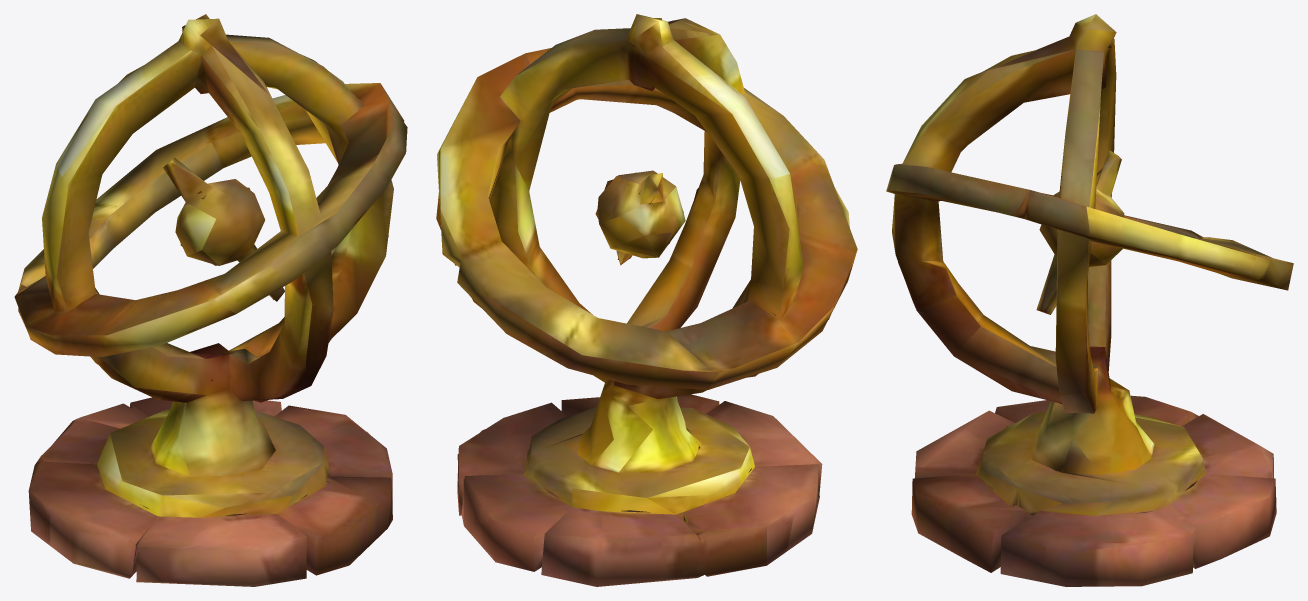
The model's file is sz-astrolabe.glb.
3 renders of one model, left to right at view 1: azimuth 30°, elevation 25°; view 2: azimuth 150°, elevation 25°; view 3: azimuth 270°, elevation 25°, orthographic. The views are drawn at different scales.
Parts seen in each view (by area): view 1: geometry_0; view 2: geometry_0; view 3: geometry_0.
Part boxes in pixels (<box>): geometry_0: <box>14,14,407,586</box>; geometry_0: <box>436,14,857,586</box>; geometry_0: <box>886,14,1293,586</box>.
Bounding box in the file's own units: 0.7427 × 1 × 0.7581.
Materials: 1 (1 with a texture image).
